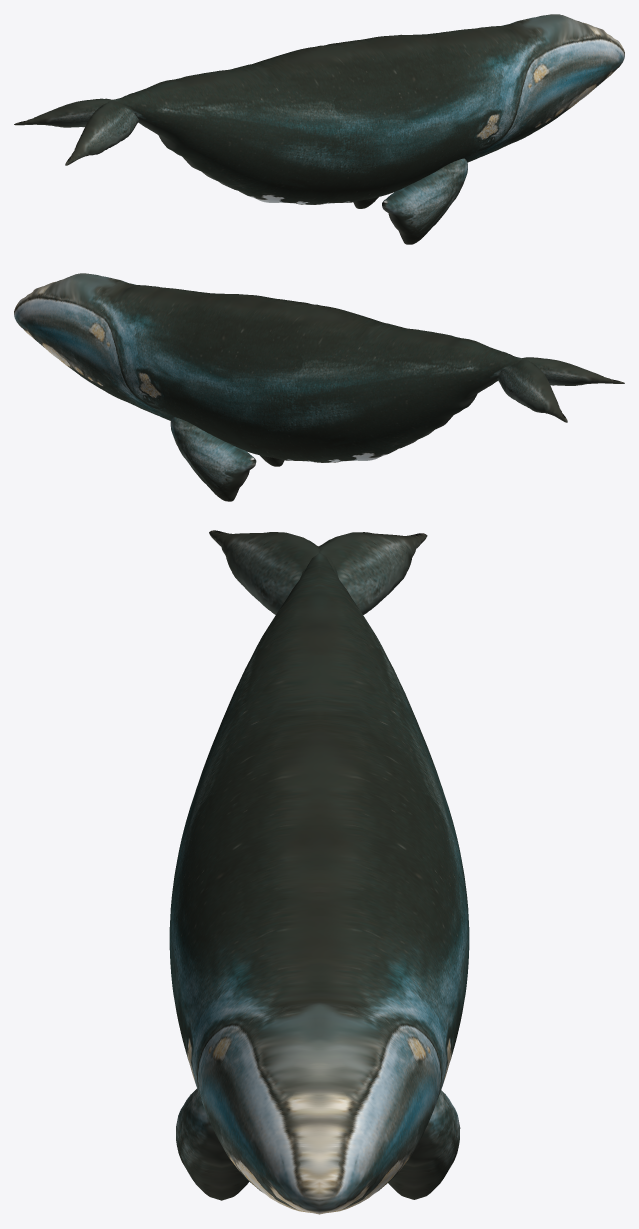
Rendered from right-whale.glb.
The picture shows the model from 3 angles, top to bottom: view 1: azimuth 30°, elevation 25°; view 2: azimuth 150°, elevation 25°; view 3: azimuth 270°, elevation 25°; orthographic projection. The views are drawn at different scales.
Visible parts, largest first — view 1: mm_frame (29); view 2: mm_frame (29); view 3: mm_frame (29).
Part boxes in pixels (<box>): mm_frame (29): <box>14,14,624,244</box>; mm_frame (29): <box>14,273,624,501</box>; mm_frame (29): <box>169,530,469,1214</box>.
Size of the model in its own units: 9.97 by 3.18 by 2.22.
1 material, 1 textured.
